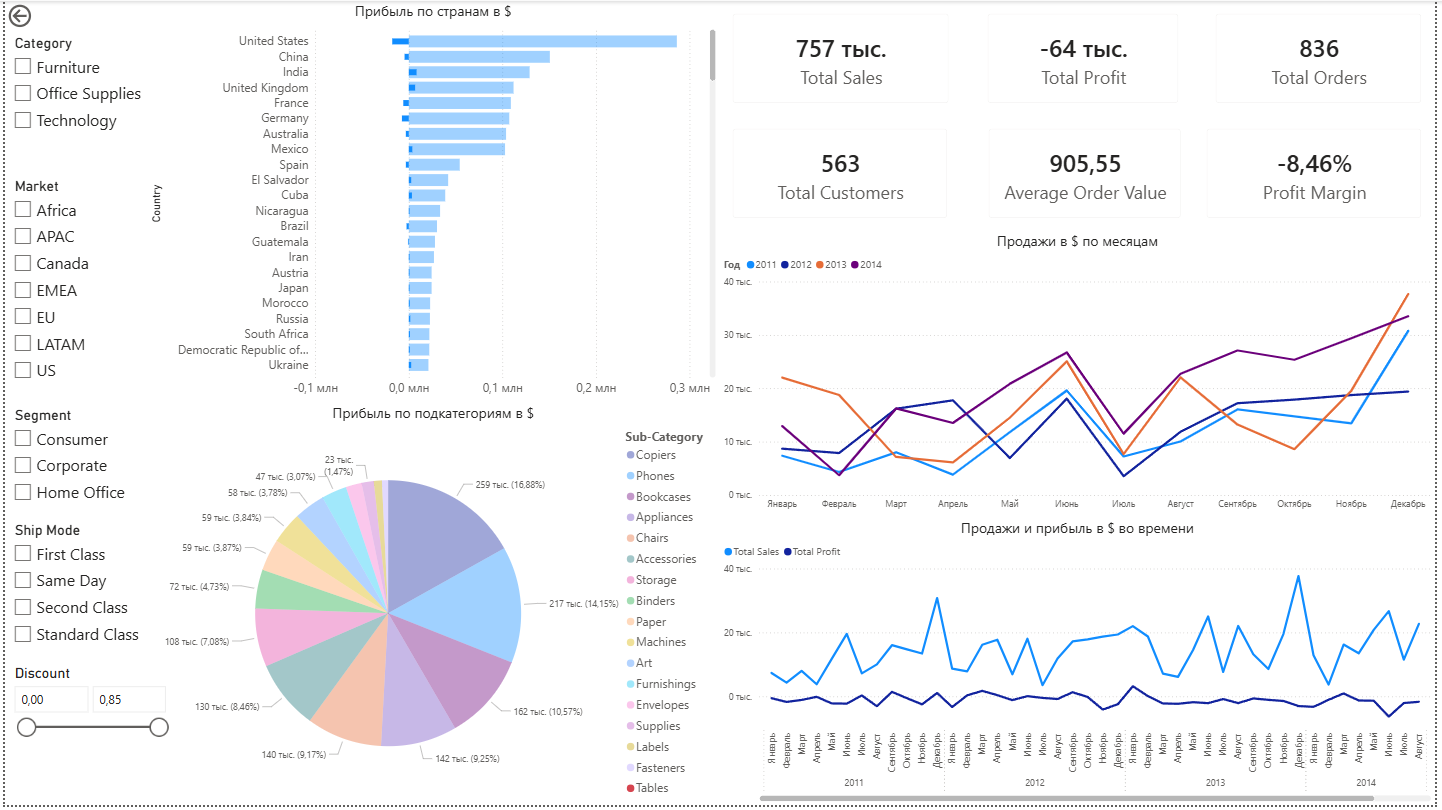

Layout of this report page (visuals, bound fields, positions):
{"tool":"powerbi","page":{"name":"Страница 1","canvas":[1920,1080],"ordinal":0},"visuals":[{"type":"cardVisual","fields":{"Data":["data_processed.Total Sales"]},"box":[960,0,324.9,154.7],"z":0,"group":"g1"},{"type":"cardVisual","fields":{"Data":["data_processed.Total Profit"]},"box":[1303.2,0.1,290.2,154.7],"z":1000,"group":"g1"},{"type":"lineChart","title":"Продажи и прибыль в $ во времени","fields":{"Y":["data_processed.Total Sales","data_processed.Total Profit"],"Category":["calendar.Year","calendar.Date.Изменение.Иерархия дат.Месяц"]},"box":[960,694,960,386],"z":1000},{"type":"cardVisual","fields":{"Data":["data_processed.Total Orders"]},"box":[1609.4,0.1,310.6,154.7],"z":2000,"group":"g1"},{"type":"pieChart","title":"Прибыль по подкатегориям в $","fields":{"Y":["data_processed.Total Profit"],"Category":["data_products.Sub-Category"]},"box":[191.2,539.7,768.8,539.7],"z":2000},{"type":"clusteredBarChart","title":"Прибыль по странам в $","fields":{"Y":["data_processed.Total Profit"],"Category":["data_processed.Country"]},"box":[191.2,0,768.8,539.7],"z":3000},{"type":"cardVisual","fields":{"Data":["data_processed.Total Customers"]},"box":[960,154.7,323,154.7],"z":3000,"group":"g1"},{"type":"group","id":"g1","title":"Группа 1","box":[960,0,960,309.3],"z":4000},{"type":"cardVisual","fields":{"Data":["data_processed.Average Order Value"]},"box":[1303.8,154.7,292.8,154.7],"z":4000,"group":"g1"},{"type":"cardVisual","fields":{"Data":["data_processed.Profit Margin"]},"box":[1596.5,154.7,323,154.7],"z":5000,"group":"g1"},{"type":"lineChart","title":"Продажи в $ по месяцам","fields":{"Y":["data_processed.Total Sales"],"Category":["calendar.Date.Изменение.Иерархия дат.Месяц"],"Series":["calendar.Date.Изменение.Иерархия дат.Год"]},"box":[960,309.3,960,385],"z":5000},{"type":"actionButton","box":[0,0,100,40],"z":6000},{"type":"slicer","fields":{"Values":["data_processed.Category"]},"box":[0,40.1,190.7,192.3],"z":7000},{"type":"slicer","fields":{"Values":["data_processed.Market"]},"box":[0,232.4,190.7,307.7],"z":8000},{"type":"slicer","fields":{"Values":["data_processed.Segment"]},"box":[0,540.1,190.7,153.9],"z":9000},{"type":"slicer","fields":{"Values":["data_processed.Ship Mode"]},"box":[0,694,190.7,192.3],"z":10000},{"type":"slicer","fields":{"Values":["data_processed.Discount"]},"box":[0,887.1,227.6,192.6],"z":10500}]}

Visuals, with their boxes on the page's 1920x1080 design canvas (x1, y1, x2, y2). These are canvas units, not pixel positions in the 1442x810 screenshot, which may show the page scaled, cropped or inside an application window:
cardVisual - data_processed.Total Sales: <box>960,0,1285,155</box>
cardVisual - data_processed.Total Profit: <box>1303,0,1593,155</box>
"Продажи и прибыль в $ во времени" lineChart: <box>960,694,1920,1080</box>
cardVisual - data_processed.Total Orders: <box>1609,0,1920,155</box>
"Прибыль по подкатегориям в $" pieChart: <box>191,540,960,1079</box>
"Прибыль по странам в $" clusteredBarChart: <box>191,0,960,540</box>
cardVisual - data_processed.Total Customers: <box>960,155,1283,309</box>
"Группа 1" group: <box>960,0,1920,309</box>
cardVisual - data_processed.Average Order Value: <box>1304,155,1597,309</box>
cardVisual - data_processed.Profit Margin: <box>1596,155,1920,309</box>
"Продажи в $ по месяцам" lineChart: <box>960,309,1920,694</box>
actionButton: <box>0,0,100,40</box>
slicer - data_processed.Category: <box>0,40,191,232</box>
slicer - data_processed.Market: <box>0,232,191,540</box>
slicer - data_processed.Segment: <box>0,540,191,694</box>
slicer - data_processed.Ship Mode: <box>0,694,191,886</box>
slicer - data_processed.Discount: <box>0,887,228,1080</box>
